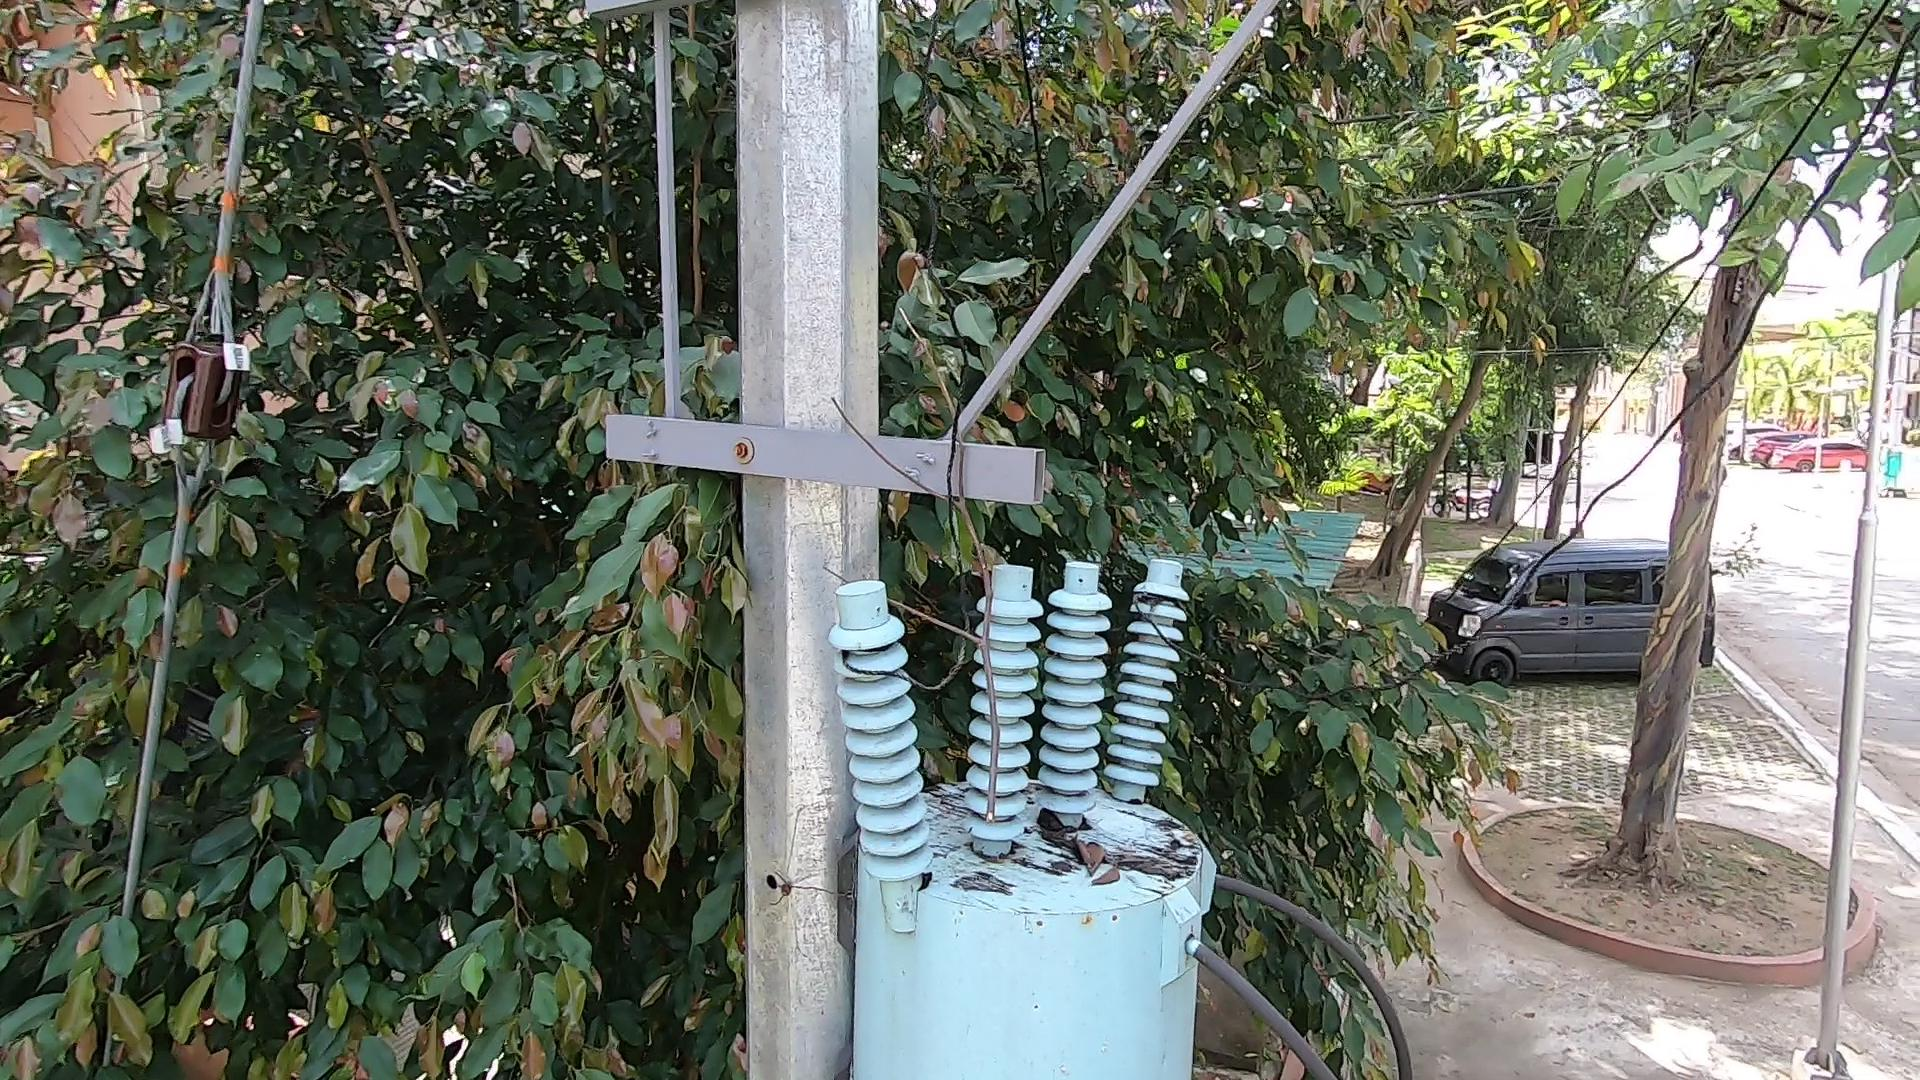leaf: (1029, 814, 1135, 902)
tree branch: (819, 282, 1035, 818)
